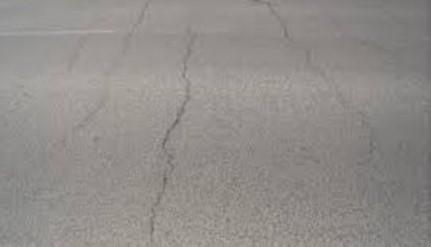crack: (255, 0, 400, 191), (55, 2, 152, 149), (144, 31, 210, 247)
